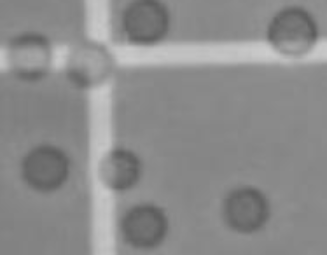cell: (214, 178, 276, 239), (261, 4, 322, 65), (116, 197, 175, 254), (61, 34, 116, 90), (16, 140, 73, 194), (3, 24, 55, 83), (92, 142, 144, 194), (118, 1, 173, 49)
